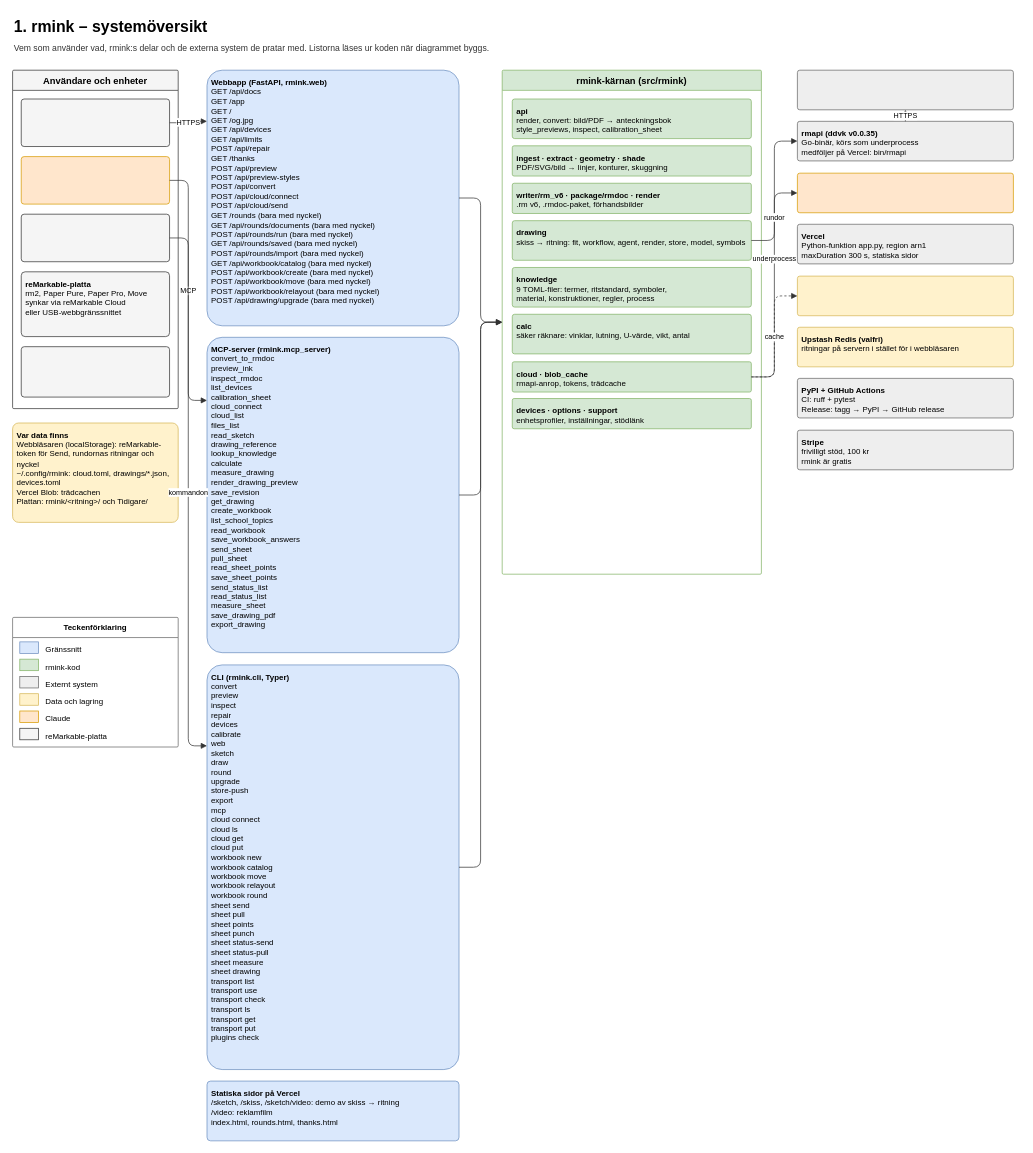
The diagram is 1033 pixels wide and 1153 high, and some of its shapes have lost their labels. Each missing label, with the centre of its shape:
"Anthropic API Claude Opus i revisionsrundorna ANTHROPIC_API_KEY" goes at point (905, 192).
"Claude Desktop / Code användarens egen Claude via MCP (stdio)" goes at point (95, 180).
"reMarkable Cloud sync 1.5: rotindex + filer per dokument nås bara via rmapi" goes at point (905, 89).
"Terminal pip install rmink kommandot rmink" goes at point (95, 237).
"Vercel Blob privat store rmink-cache rmapi-trädcachen, gzip" goes at point (905, 295).
"Webbläsare rmink.vercel.app telefon eller dator" goes at point (95, 122).
"Ägaren /rounds med hemlig nyckel egen reMarkable-token på servern" goes at point (95, 371).
